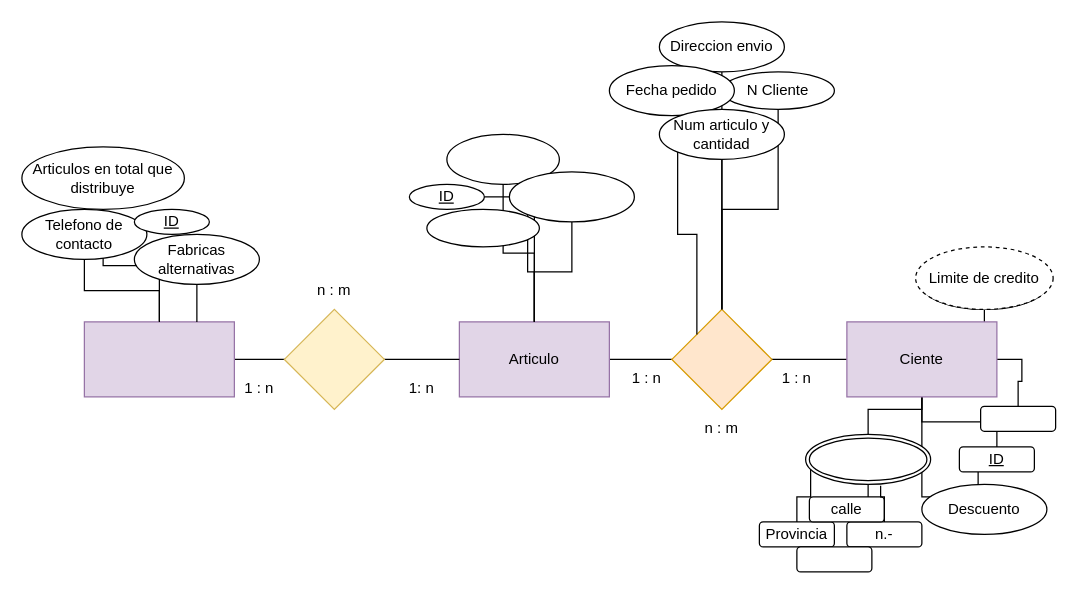
Some shapes in this 1078 by 594 pixel diagram are drawn without their labels. Each missing label, with the centre of its shape:
cantidad en stock: (502,158)
Ciudad: (834,559)
Descripcion: (482,227)
Direccion: (867,458)
Distribuye: (333,358)
Fabrica: (158,359)
Info del distribuidor: (571,196)
pedio: (721,358)
saldo: (1017,418)
